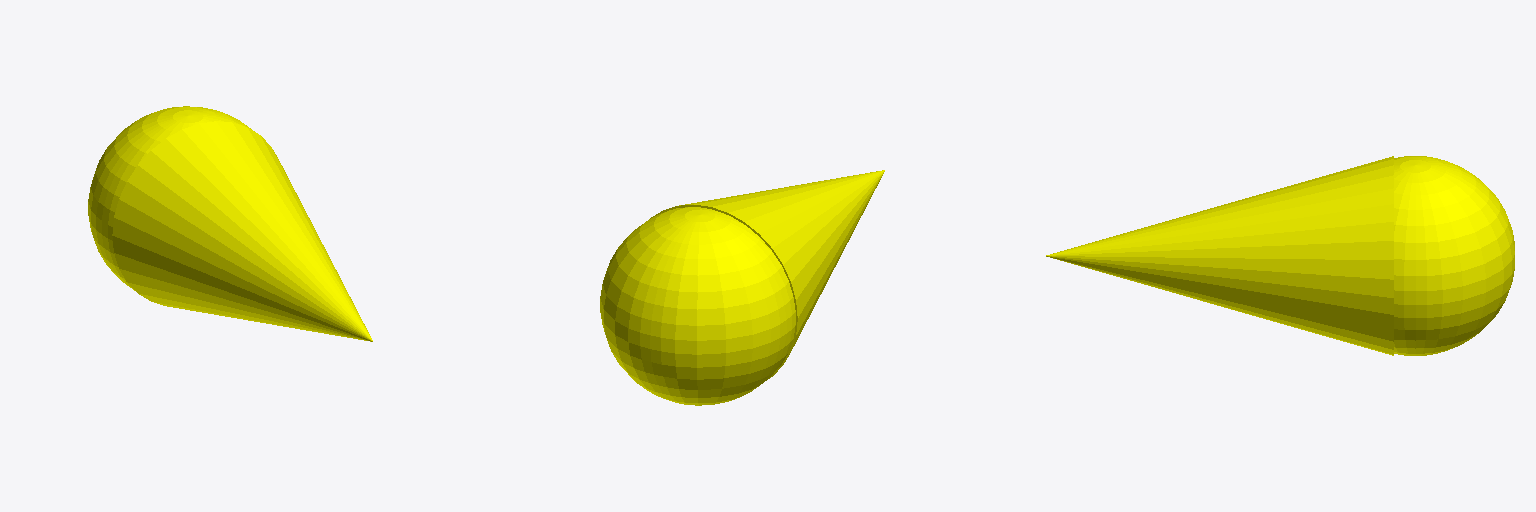
The model's file is blastbullet.obj.
3 renders of one model, left to right at view 1: azimuth 30°, elevation 25°; view 2: azimuth 150°, elevation 25°; view 3: azimuth 270°, elevation 25°, orthographic.
Visible parts, largest first — view 1: Cone, SurfSphere; view 2: SurfSphere, Cone; view 3: Cone, SurfSphere.
Boxes of the visible parts, <box> form: Cone: <box>112,121,372,341</box>; SurfSphere: <box>88,106,254,290</box>; SurfSphere: <box>600,207,795,405</box>; Cone: <box>650,170,884,378</box>; Cone: <box>1046,156,1393,355</box>; SurfSphere: <box>1394,156,1514,355</box>.
Bounding box in the file's own units: 2 × 2 × 4.7.